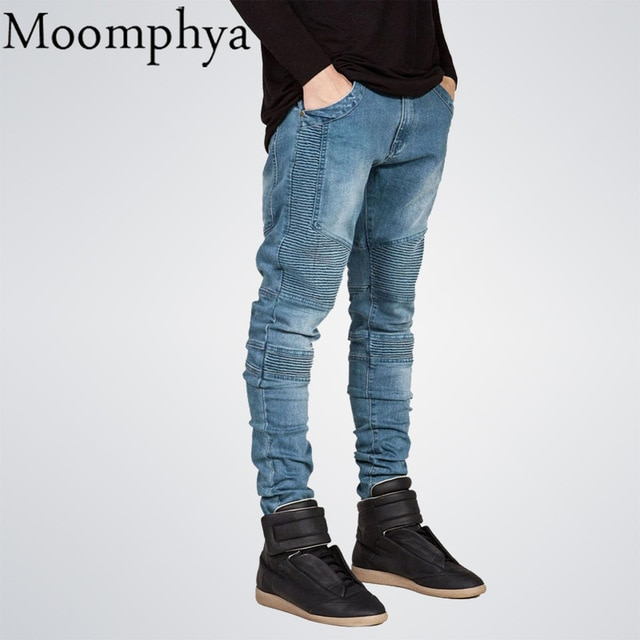jeans: (249, 92, 456, 511)
